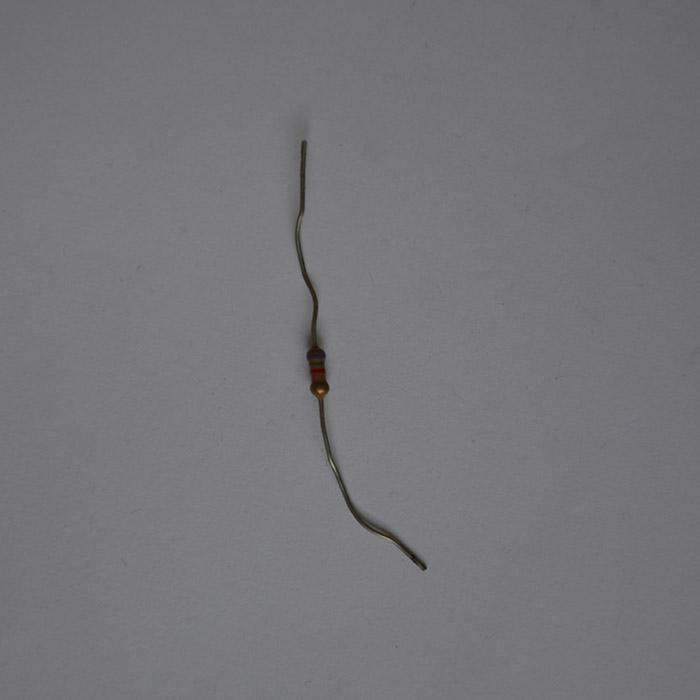resistor: (306, 345, 329, 398)
